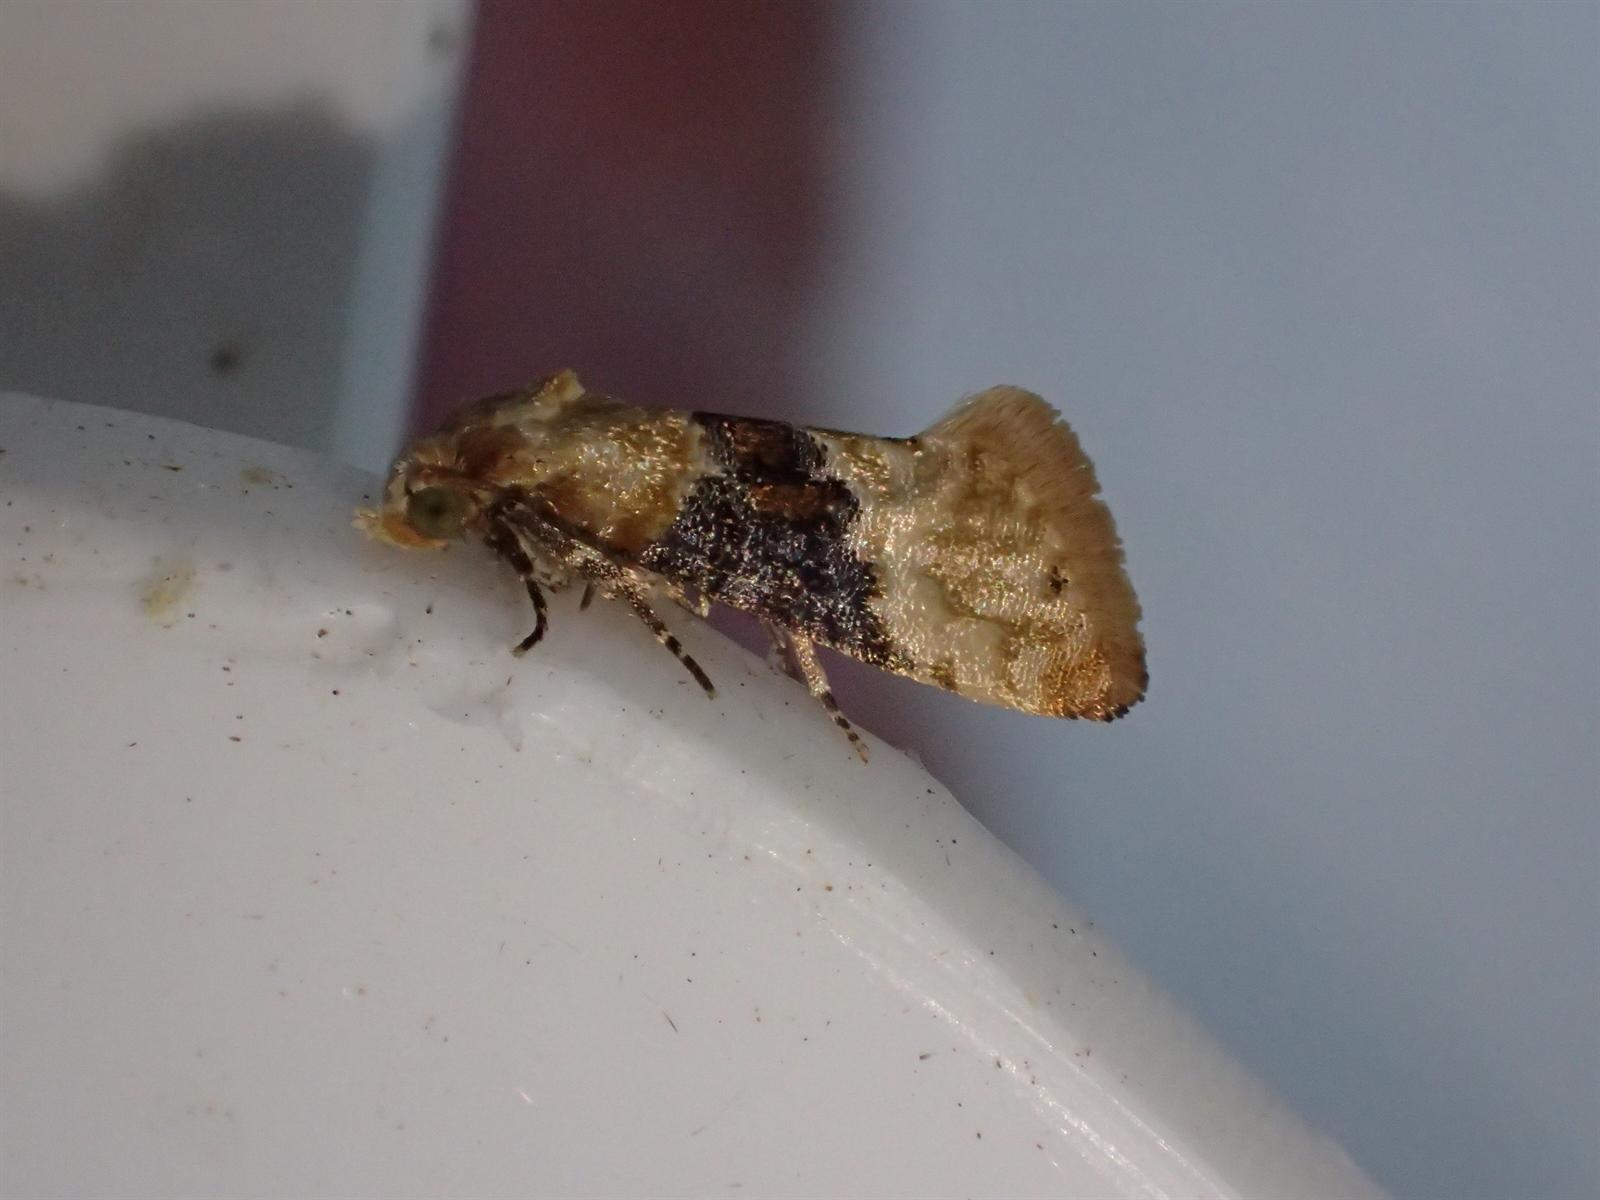Eupoecilia Ambiguella: (350, 355, 1162, 768)
